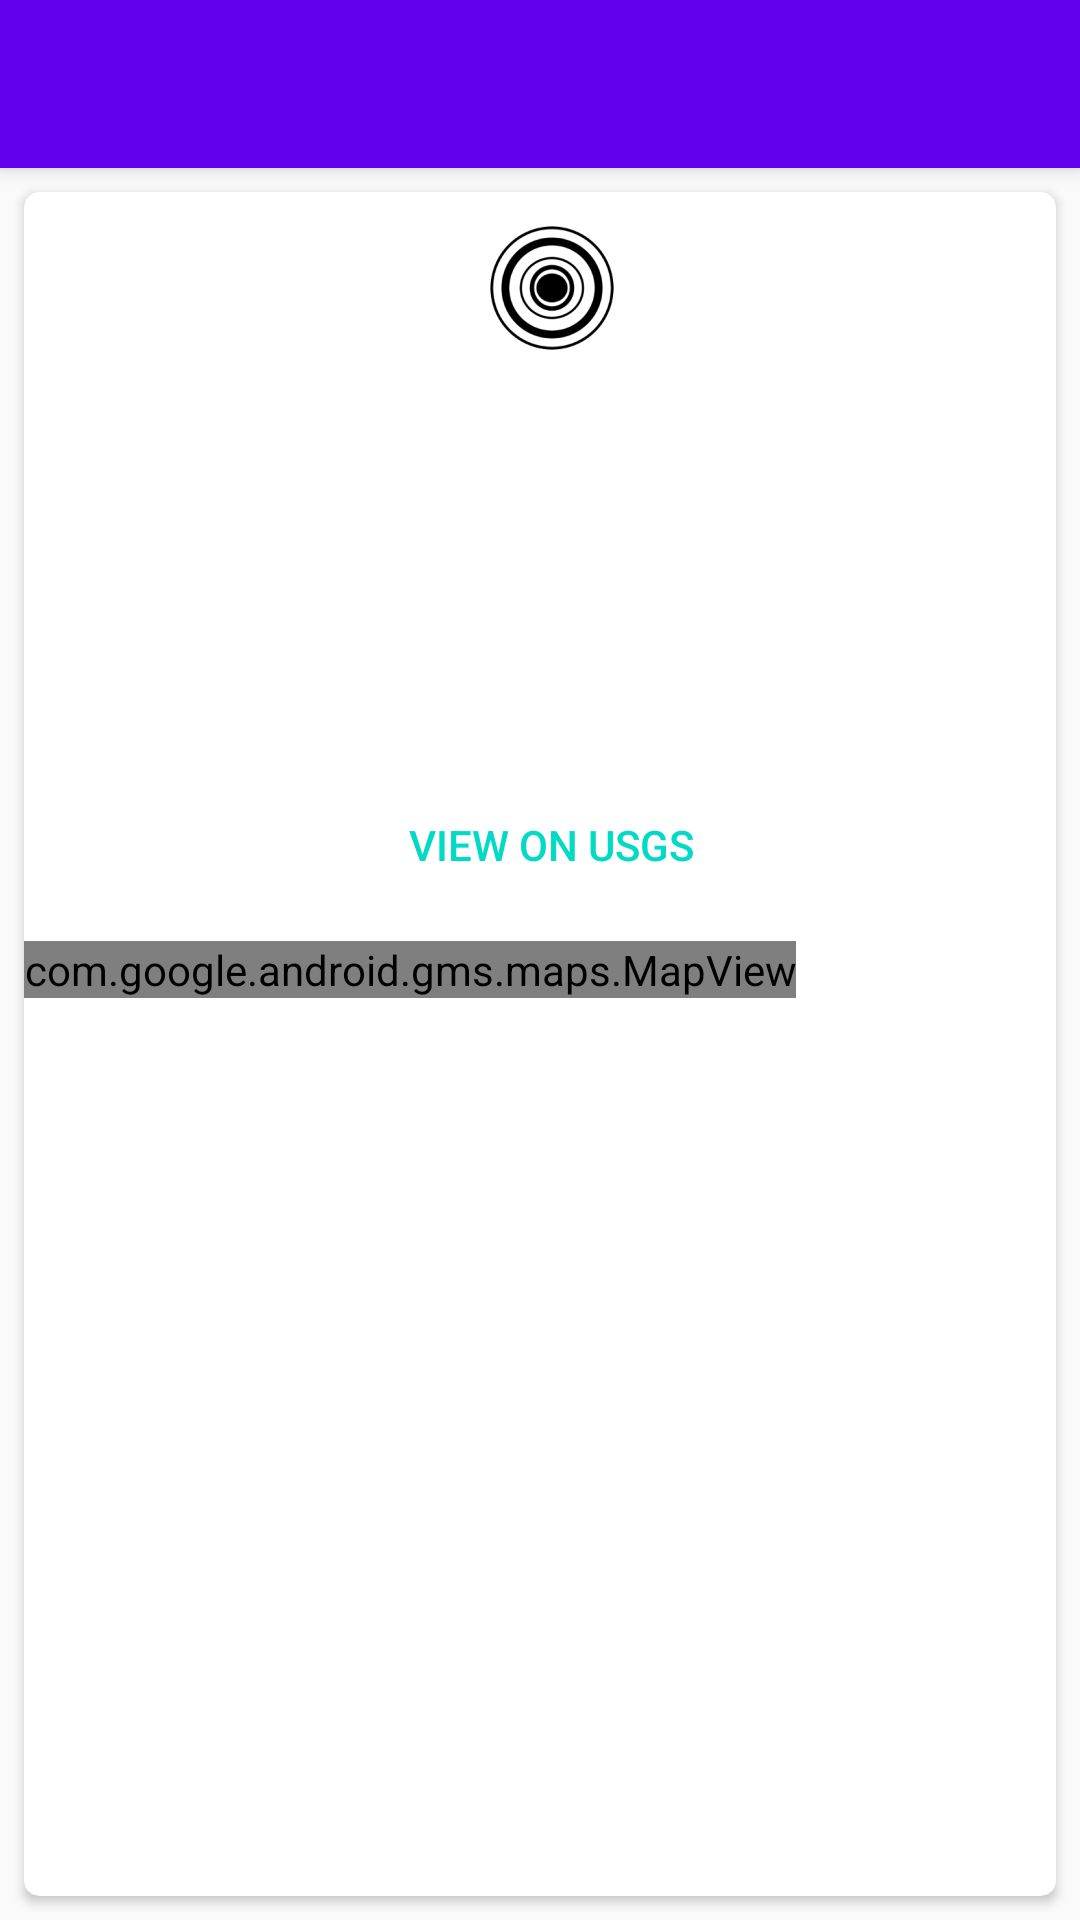

Screen size 1080*1920. Icon name, then its center in pixels as (x=x, y=y):
Quake Icon: (x=552, y=288)
